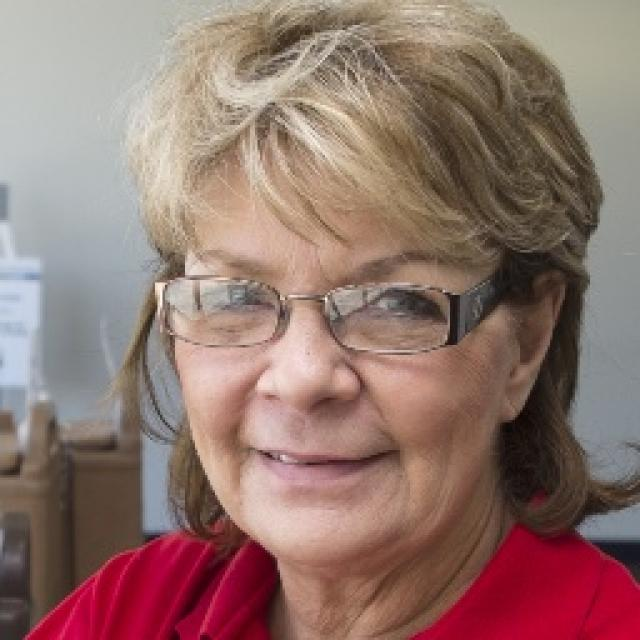earlobe: (498, 269, 568, 425)
